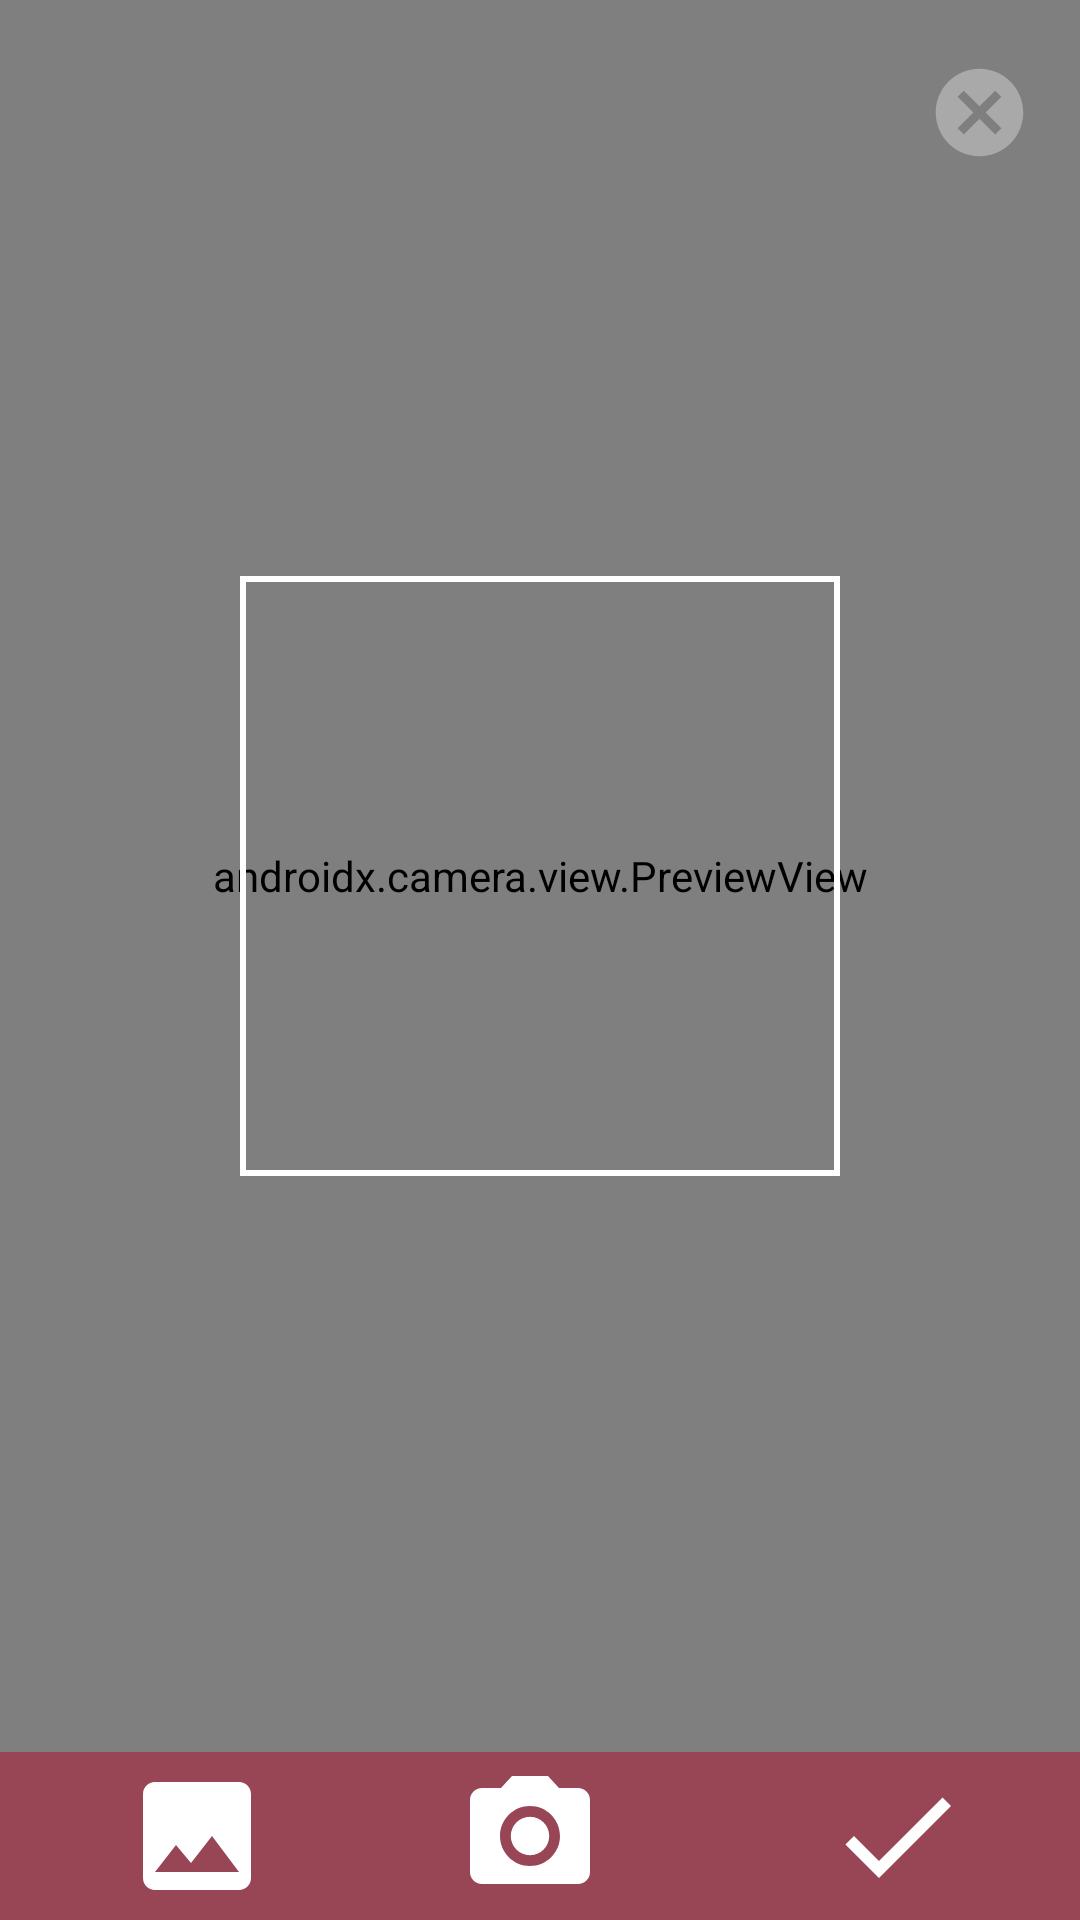

Icons on this 1080×1920 Android screen, each with the point to tap as point (x, y):
Cancel button: point (979, 112)
capture: point (530, 1830)
check: point (898, 1837)
Select from gallery: point (197, 1836)
